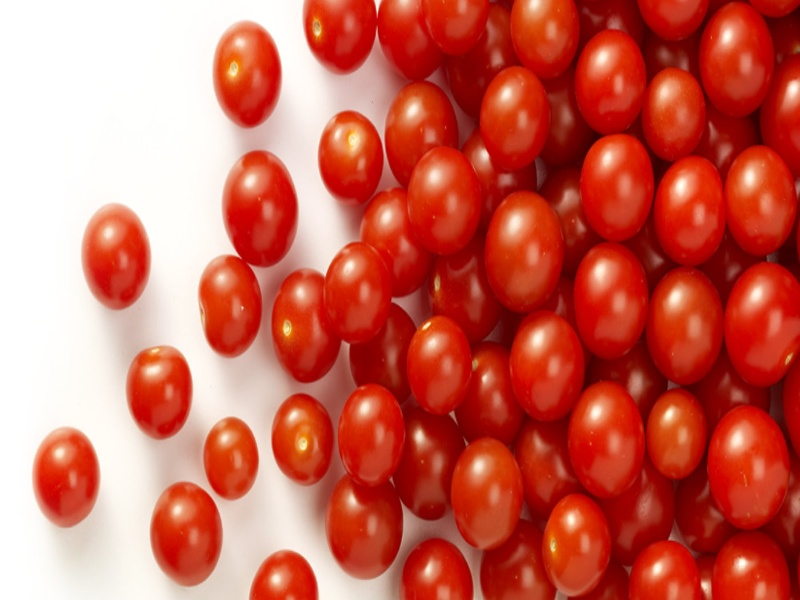Tomate: (707, 404, 792, 529), (221, 150, 302, 270), (424, 229, 502, 352), (485, 192, 566, 310), (567, 380, 646, 499), (724, 265, 800, 387), (449, 5, 528, 121), (270, 268, 346, 388), (648, 267, 724, 384), (510, 310, 589, 422), (326, 468, 404, 580), (360, 188, 435, 299), (699, 4, 773, 115), (577, 241, 646, 360), (452, 437, 524, 551), (384, 81, 462, 185), (518, 412, 593, 520), (409, 148, 482, 256), (654, 155, 727, 263), (350, 301, 425, 406), (212, 20, 284, 129), (460, 342, 528, 457), (584, 132, 656, 240), (81, 205, 153, 310), (399, 407, 465, 521), (151, 481, 223, 585), (479, 65, 548, 173), (724, 147, 793, 252), (680, 460, 749, 565), (337, 384, 407, 487), (324, 242, 394, 345), (198, 255, 265, 362), (543, 493, 610, 598), (408, 315, 477, 416), (525, 63, 591, 168), (537, 152, 596, 266), (31, 427, 98, 527), (463, 131, 538, 220), (606, 473, 681, 562), (481, 518, 562, 600), (580, 32, 646, 130), (699, 357, 774, 443), (590, 332, 666, 414), (126, 347, 193, 440), (320, 109, 384, 205), (647, 388, 709, 484), (272, 393, 336, 485), (377, 1, 448, 82), (712, 531, 794, 600), (301, 1, 377, 75), (646, 68, 707, 157), (511, 1, 581, 77), (696, 95, 763, 171), (761, 53, 800, 175), (402, 537, 476, 600), (627, 538, 702, 600), (203, 417, 259, 497), (417, 1, 488, 57), (643, 25, 707, 85), (249, 549, 323, 600), (636, 2, 707, 38)
